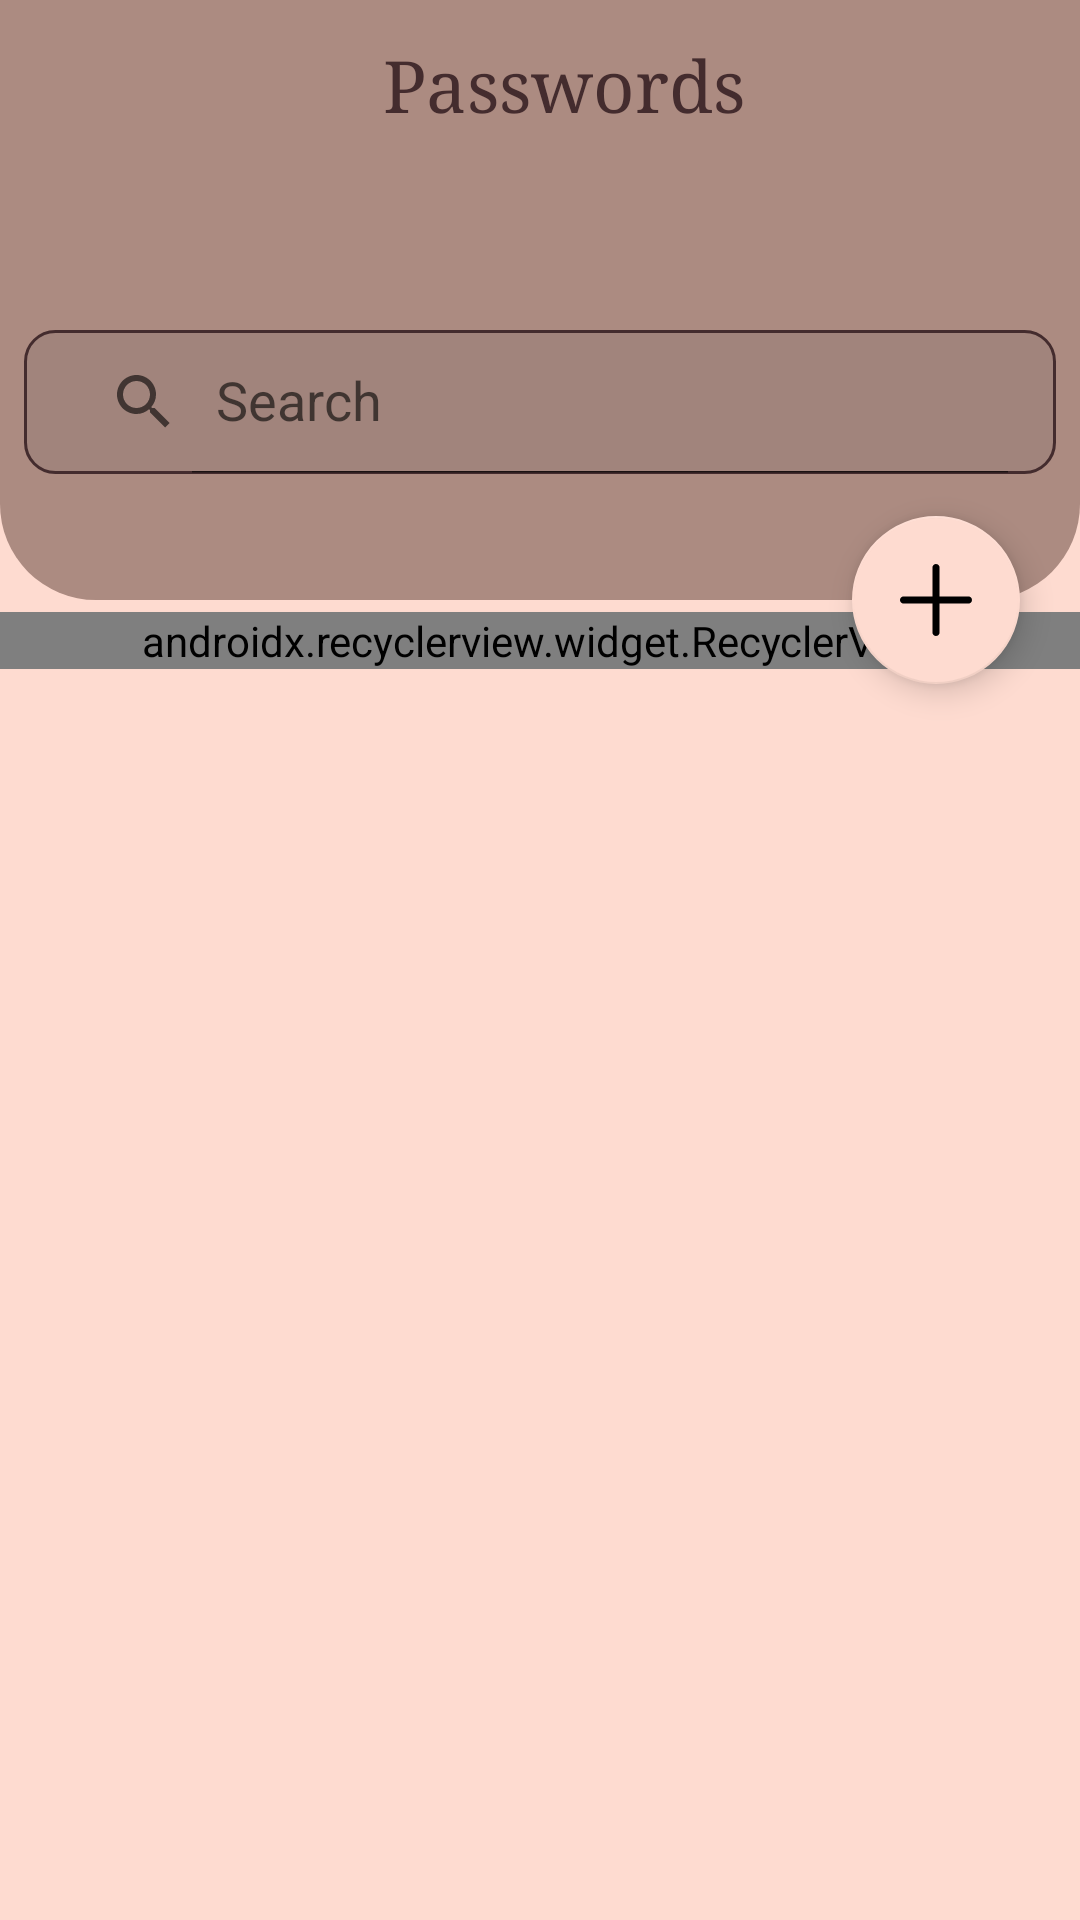

Where to tap for icons on this 1080w x 1920h app screen, as (x,y):
add: (936,600)
